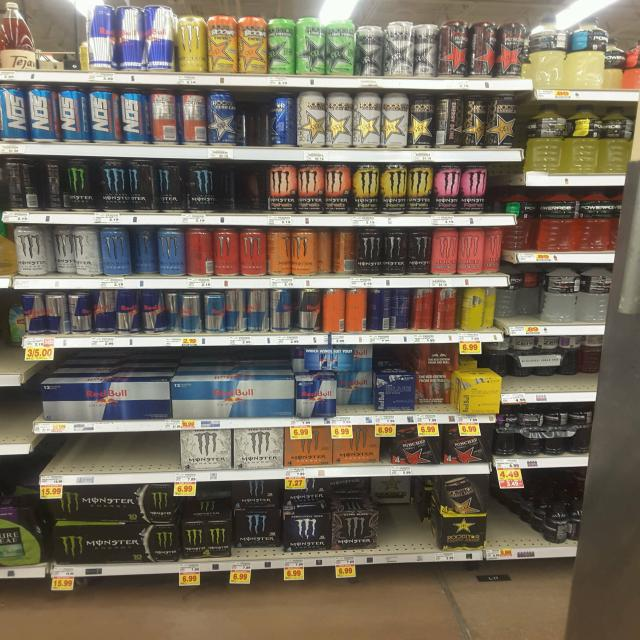void: (45, 0, 84, 71), (387, 510, 430, 563), (493, 488, 521, 564), (143, 431, 180, 486), (2, 388, 32, 455), (104, 433, 140, 488), (70, 432, 102, 490), (42, 432, 73, 491)
